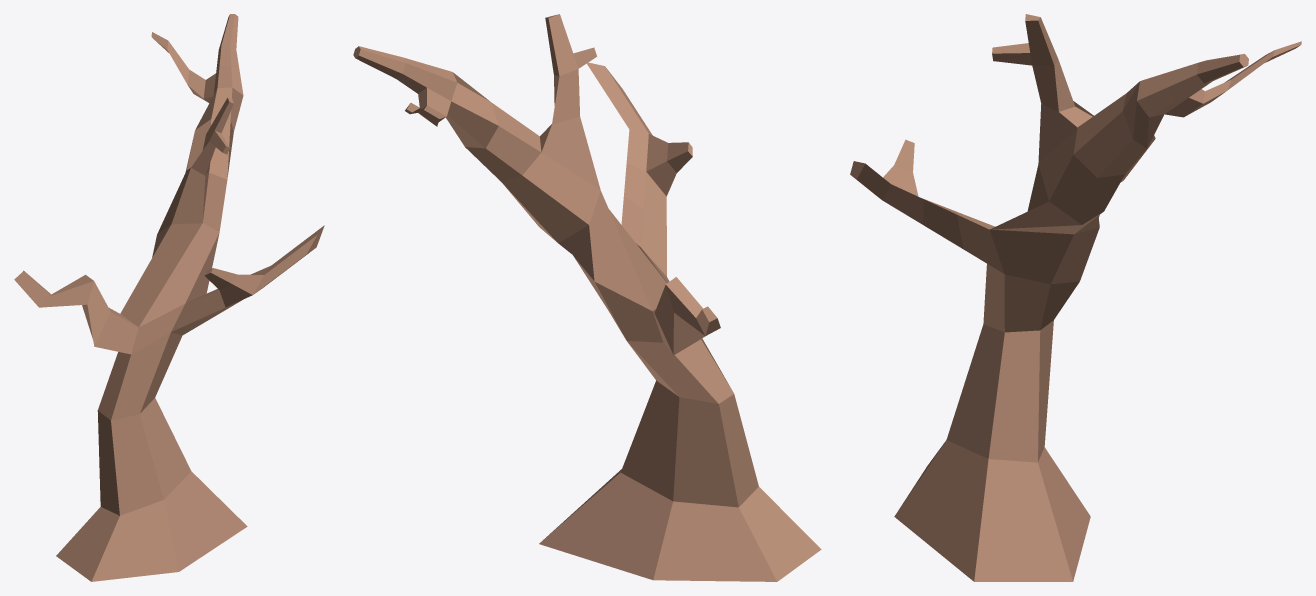
Rendered from tree_2.fbx.
The picture shows the model from 3 angles, left to right: view 1: azimuth 30°, elevation 25°; view 2: azimuth 150°, elevation 25°; view 3: azimuth 270°, elevation 25°; orthographic projection. The views are drawn at different scales.
Parts seen in each view (by area): view 1: Cylinder; view 2: Cylinder; view 3: Cylinder.
Part boxes in pixels (box(x1,y1,x2,y2)): Cylinder: box(14, 14, 324, 581); Cylinder: box(353, 14, 821, 581); Cylinder: box(850, 14, 1301, 581).
Bounding box in the file's own units: 4.52 × 7.03 × 4.93.
